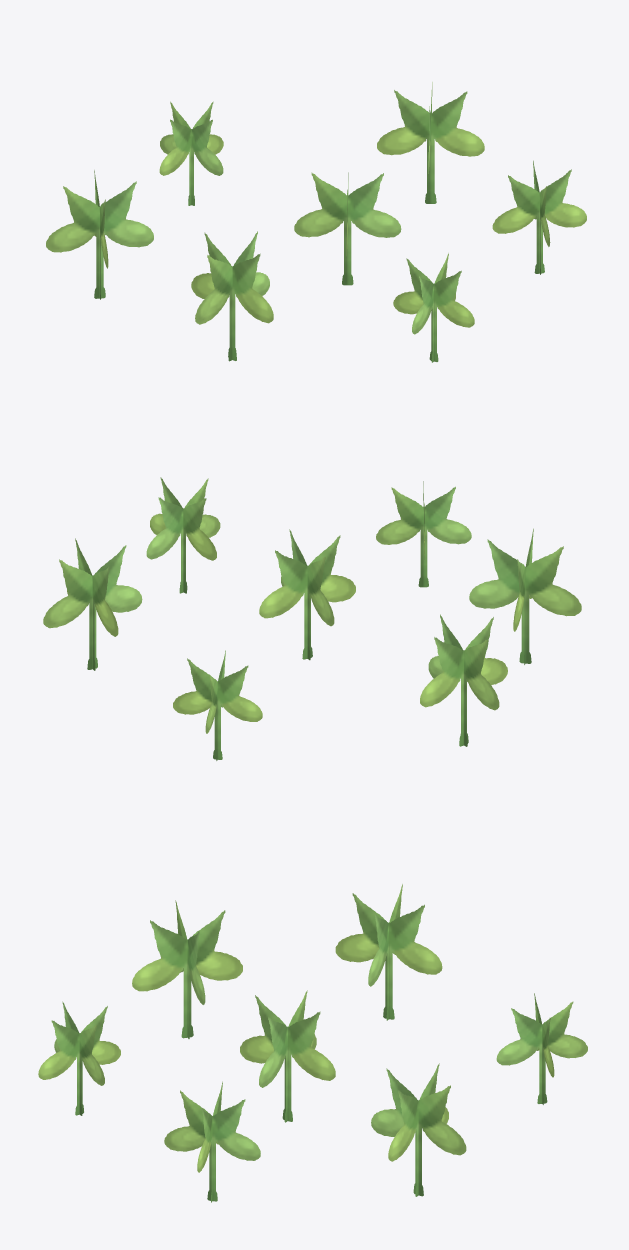
Rendered from crop_sunflower_1.glb.
3 views of the same model, one above another, from view 1: azimuth 30°, elevation 25°; view 2: azimuth 150°, elevation 25°; view 3: azimuth 270°, elevation 25° (orthographic). The views are drawn at different scales.
Parts seen in each view (by area): view 1: crop_sunflower_1; view 2: crop_sunflower_1; view 3: crop_sunflower_1.
Boxes of the visible parts, x1,y1,x2,y2 form: crop_sunflower_1: (46,82,586,362); crop_sunflower_1: (43,477,581,760); crop_sunflower_1: (38,884,587,1202).
Bounding box in the file's own units: 0.7086 × 0.2222 × 0.7197.
1 material, 1 textured.
